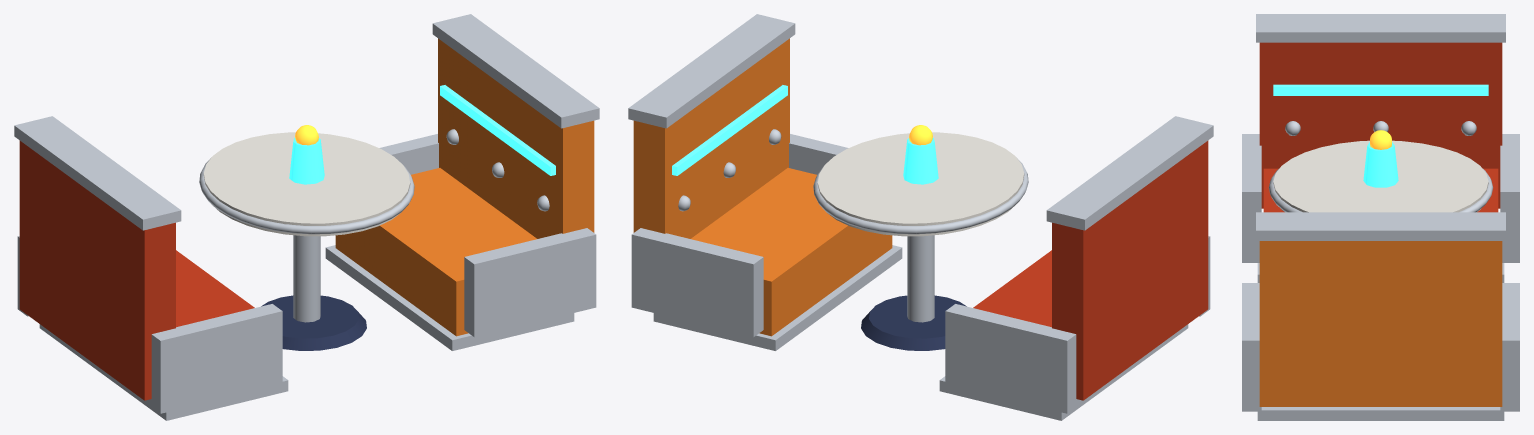
Rendered from space_booth.glb.
3 renders of one model, left to right at view 1: azimuth 30°, elevation 25°; view 2: azimuth 150°, elevation 25°; view 3: azimuth 270°, elevation 25°, orthographic. The views are drawn at different scales.
Bounding box in the file's own units: 2.62 × 1.14 × 1.42.
